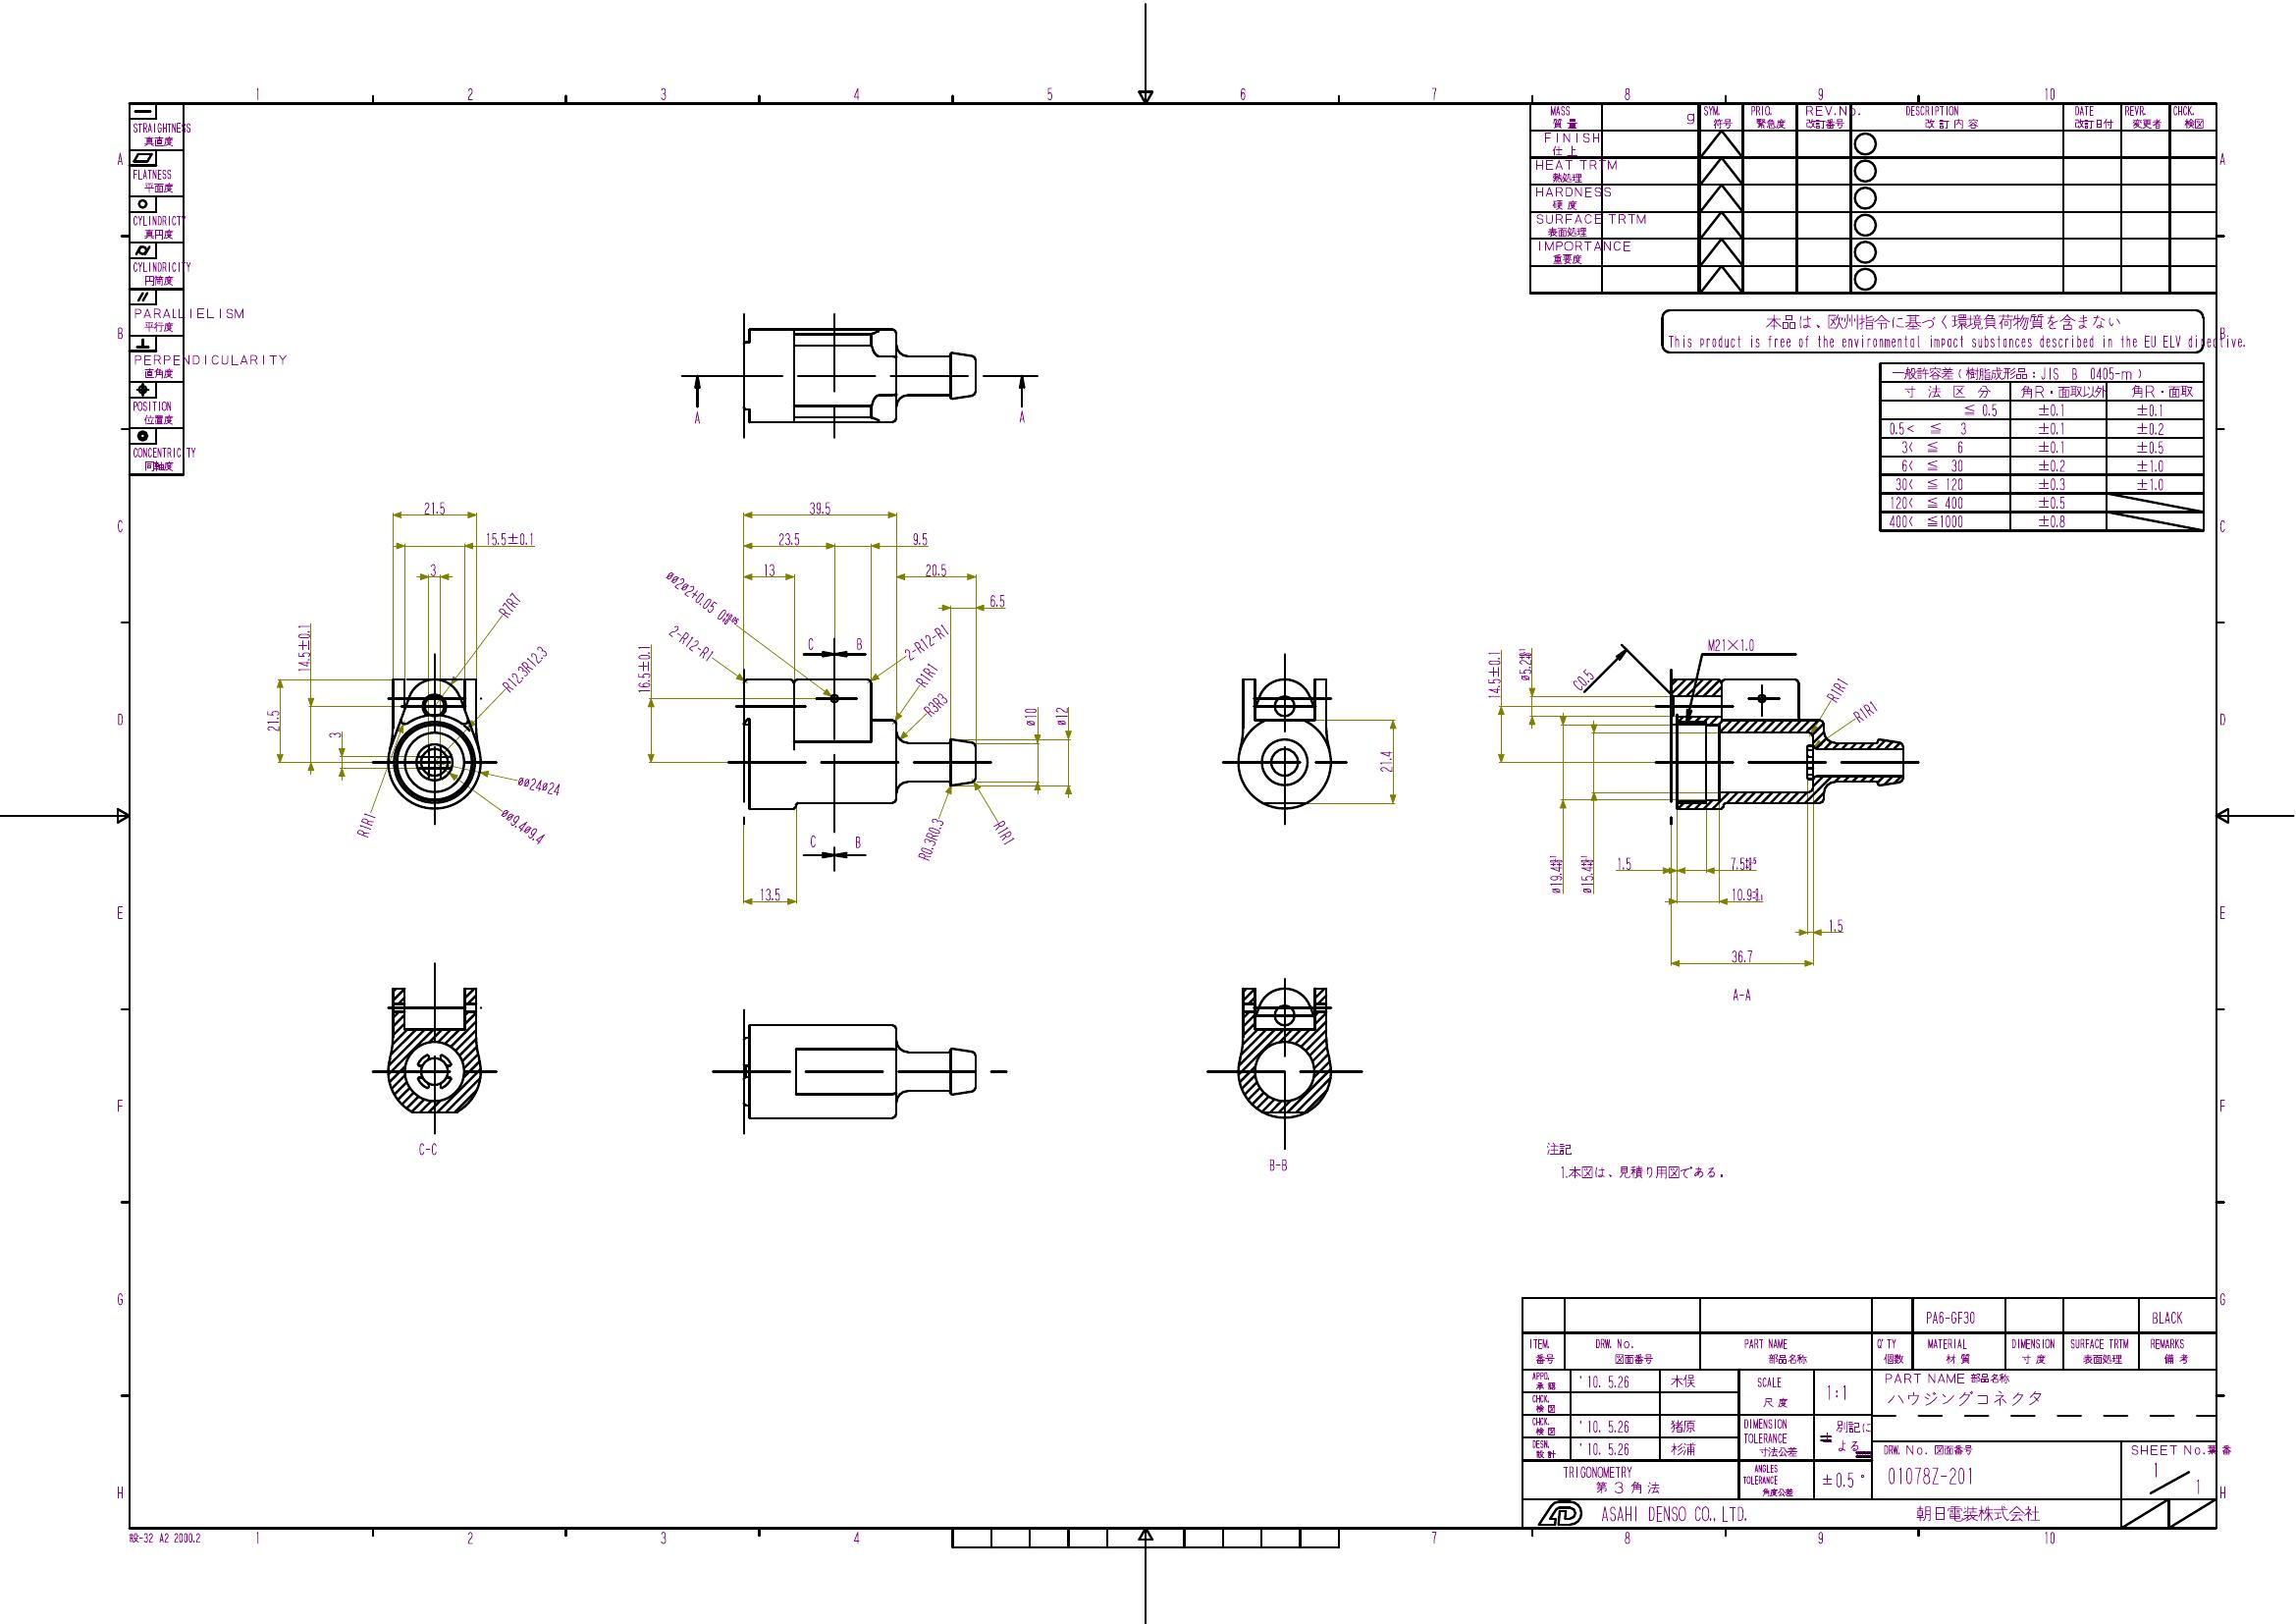anntotation_text: (1660, 308, 2208, 355), (1544, 1134, 1730, 1186), (130, 1529, 207, 1545), (416, 1137, 437, 1156), (1730, 986, 1753, 1002), (1267, 1156, 1288, 1172), (850, 831, 864, 851), (806, 828, 817, 852), (1015, 410, 1029, 425), (805, 634, 817, 652), (852, 634, 864, 652), (692, 410, 703, 425)
dimension_text: (661, 591, 748, 606), (1706, 636, 1760, 656), (495, 659, 559, 675), (483, 531, 538, 548), (1484, 647, 1502, 701), (662, 634, 722, 650), (899, 631, 952, 649), (295, 622, 313, 673), (636, 643, 652, 696), (495, 819, 553, 833), (921, 816, 938, 861), (1546, 852, 1563, 893), (520, 779, 566, 793), (1579, 851, 1593, 895), (1727, 856, 1762, 872), (1730, 884, 1760, 902), (1516, 647, 1530, 682), (494, 598, 523, 613), (755, 886, 785, 902), (1852, 703, 1881, 719), (420, 499, 448, 515), (912, 668, 943, 682), (922, 561, 949, 576), (1051, 705, 1068, 728), (806, 499, 834, 513), (360, 812, 374, 838), (908, 529, 929, 547), (987, 591, 1008, 608), (998, 819, 1012, 845), (1379, 749, 1393, 775), (1613, 852, 1634, 870), (1825, 682, 1852, 696), (775, 533, 803, 545), (1730, 947, 1755, 961), (1825, 917, 1846, 933), (267, 707, 279, 733), (924, 696, 950, 708), (1572, 673, 1599, 685), (1024, 707, 1038, 726), (427, 559, 439, 578), (764, 562, 778, 576), (329, 729, 339, 740)
object: (1669, 675, 1906, 812), (743, 675, 975, 810), (743, 329, 975, 424), (745, 1025, 977, 1118), (1233, 677, 1333, 807), (1237, 986, 1332, 1123), (388, 677, 481, 810), (388, 986, 483, 1113)
title_block: (1523, 1295, 2215, 1531), (1532, 102, 2213, 292), (1881, 360, 2201, 531), (130, 104, 186, 476)
